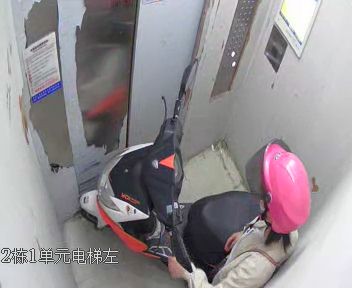Electric-bicycle: (82, 59, 269, 262)
